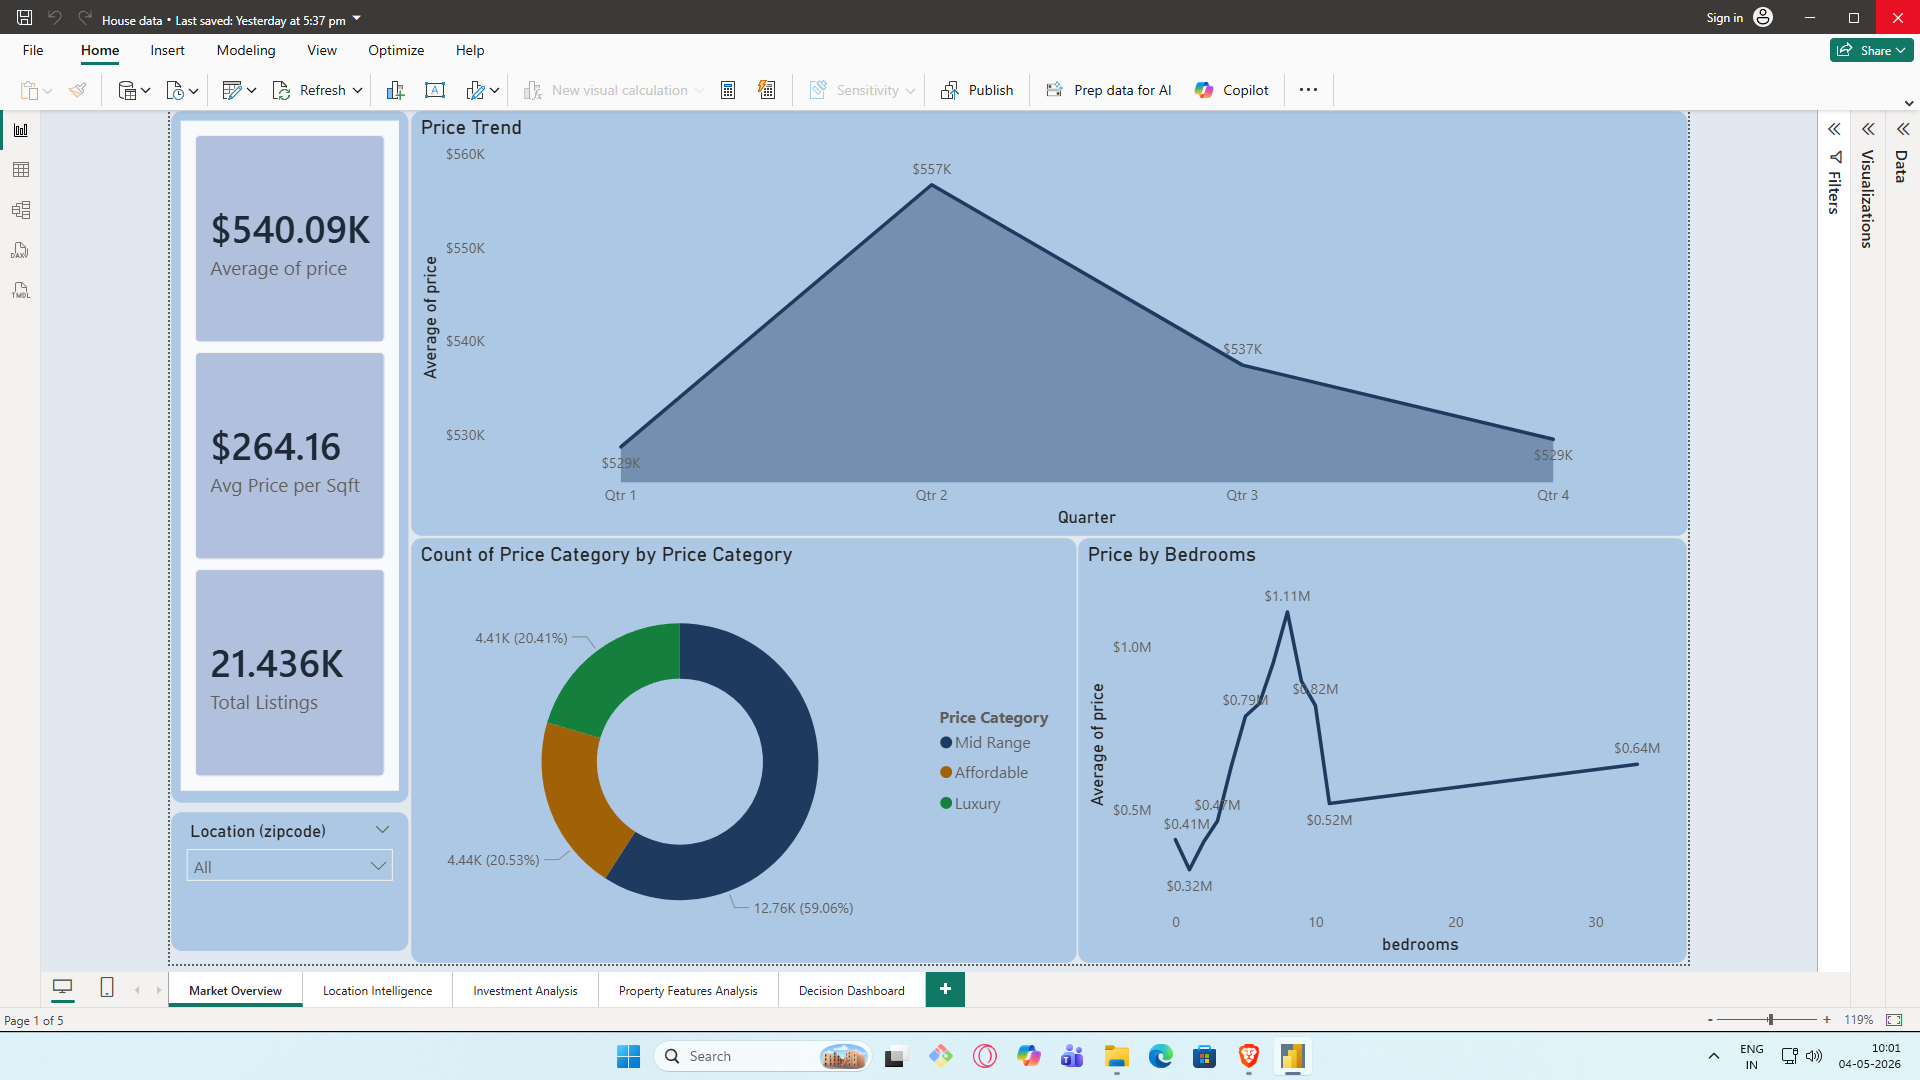

What the dashboard file says about the page in this screenshot:
{"tool":"powerbi","page":{"name":"Market Overview","canvas":[1280,720],"ordinal":0},"visuals":[{"type":"cardVisual","fields":{"Data":["Avg(Data.price)","Avg(Data.Price per Sqft)","Count(Data.id)"]},"box":[0,0,202.3,585.1],"z":0},{"type":"slicer","fields":{"Values":["Data.zipcode"]},"box":[0,591,202.3,118.9],"z":1000},{"type":"areaChart","title":"Price Trend","fields":{"Category":["Data.date.Variation.Date Hierarchy.Quarter"],"Y":["Avg(Data.price)"]},"box":[202.3,0,1077.7,359.9],"z":2000},{"type":"donutChart","fields":{"Category":["Data.Price Category"],"Y":["CountNonNull(Data.Price Category)"]},"box":[202.3,359.9,563.2,359.9],"z":3000},{"type":"lineChart","title":"Price by Bedrooms","fields":{"Y":["Avg(Data.price)"],"Category":["Data.bedrooms"]},"box":[765,360,515,360],"z":4000}]}

Visuals, with their boxes on the page's 1280x720 design canvas (x1, y1, x2, y2). These are canvas units, not pixel positions in the 1920x1080 screenshot, which may show the page scaled, cropped or inside an application window:
cardVisual - Avg(Data.price) x Avg(Data.Price per Sqft): [0, 0, 202, 585]
slicer - Data.zipcode: [0, 591, 202, 710]
"Price Trend" areaChart: [202, 0, 1280, 360]
donutChart - Data.Price Category x CountNonNull(Data.Price Category): [202, 360, 766, 720]
"Price by Bedrooms" lineChart: [765, 360, 1280, 720]
